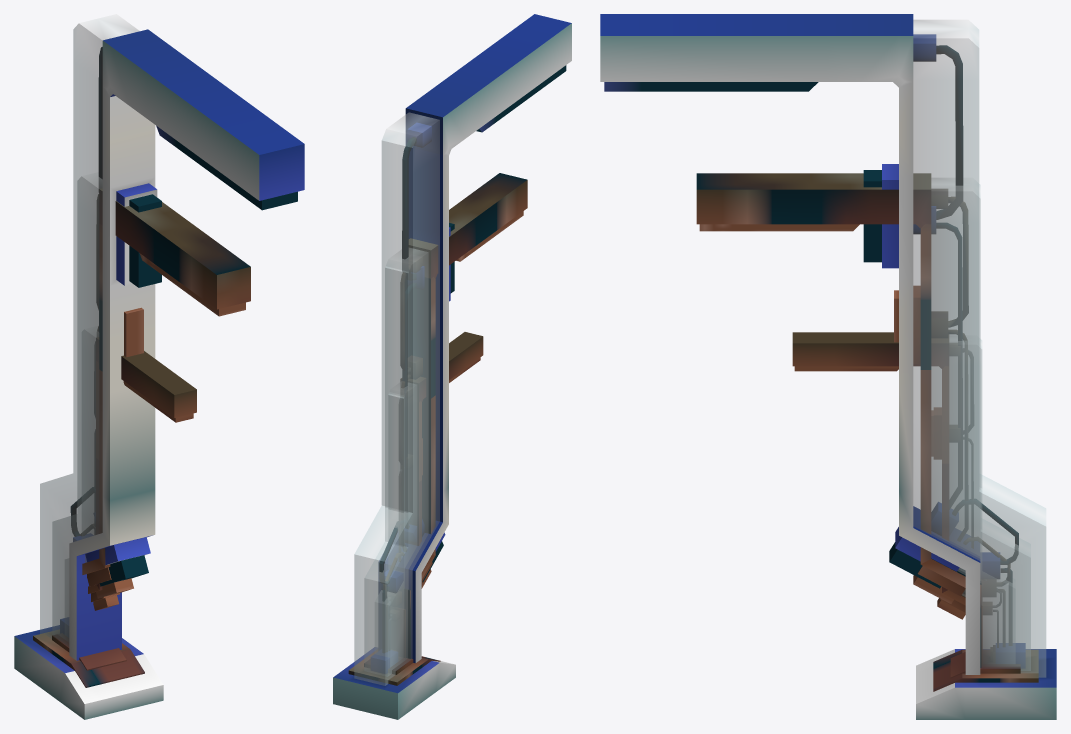
Rendered from lamp-002.gltf.
3 renders of one model, left to right at view 1: azimuth 30°, elevation 25°; view 2: azimuth 150°, elevation 25°; view 3: azimuth 270°, elevation 25°, orthographic. The views are drawn at different scales.
Parts seen in each view (by area): view 1: _MeshInstance3D_580, _MeshInstance3D_579, Cube1; view 2: _MeshInstance3D_580, _MeshInstance3D_579, Cube1; view 3: _MeshInstance3D_580, _MeshInstance3D_579, Cube1.
Boxes of the visible parts, x1=… form: _MeshInstance3D_580: x1=14, y1=14, x2=304, y2=719; _MeshInstance3D_579: x1=33, y1=172, x2=250, y2=687; Cube1: x1=52, y1=337, x2=196, y2=670; _MeshInstance3D_580: x1=333, y1=14, x2=571, y2=719; _MeshInstance3D_579: x1=348, y1=173, x2=527, y2=685; Cube1: x1=364, y1=332, x2=483, y2=674; _MeshInstance3D_580: x1=600, y1=14, x2=1056, y2=719; _MeshInstance3D_579: x1=696, y1=173, x2=1038, y2=691; Cube1: x1=792, y1=332, x2=1020, y2=678.
Bounding box in the file's own units: 18.92 × 155 × 94.67.
6 materials, 3 textured.
